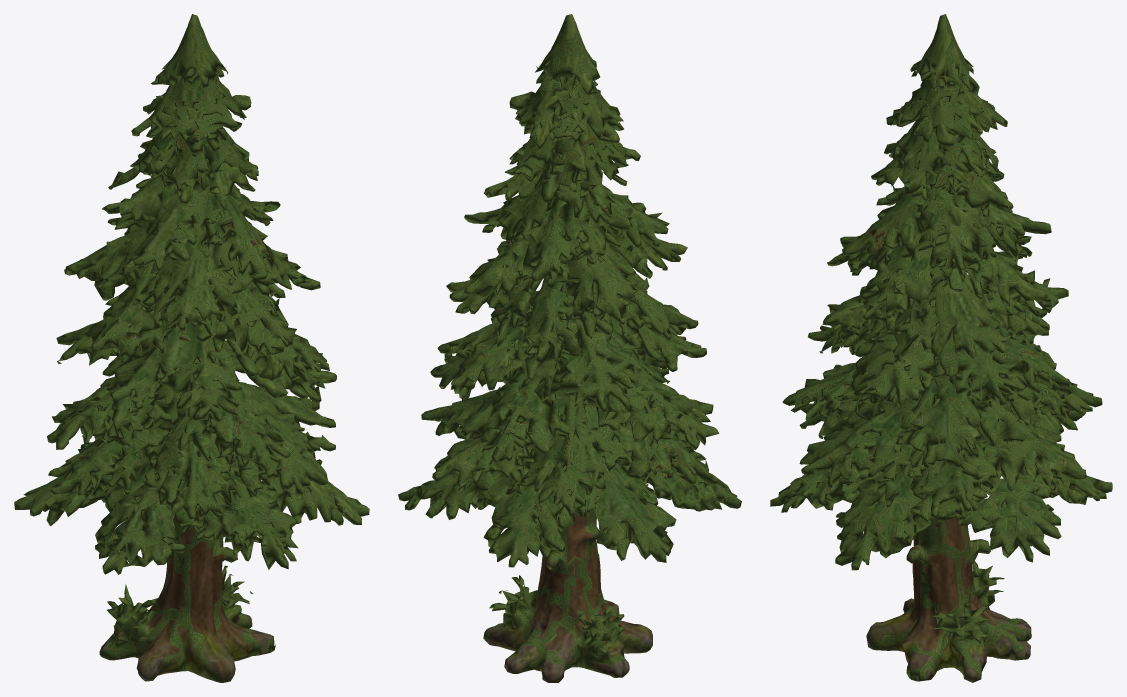
File: pine.glb
3 views of the same model, side by side, from view 1: azimuth 30°, elevation 25°; view 2: azimuth 150°, elevation 25°; view 3: azimuth 270°, elevation 25° (orthographic).
Bounding box in the file's own units: 0.8767 × 1.9 × 0.9274.
1 material, 1 textured.
